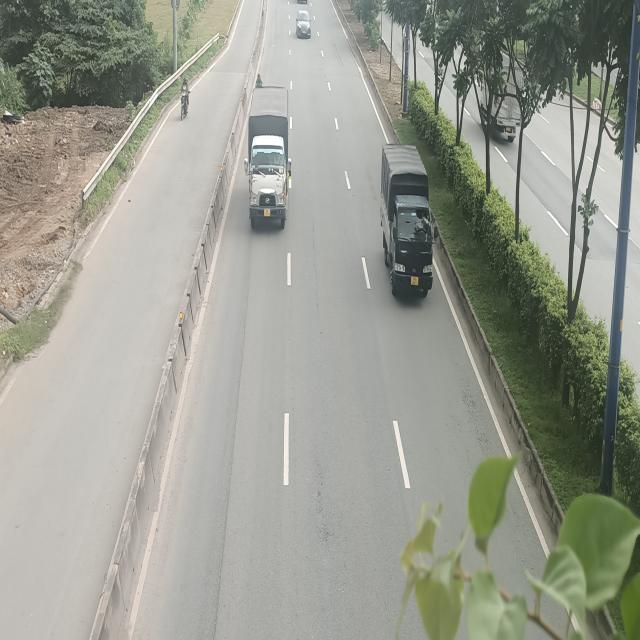car: (297, 10, 313, 40)
truck: (381, 144, 440, 298), (246, 84, 293, 228)
